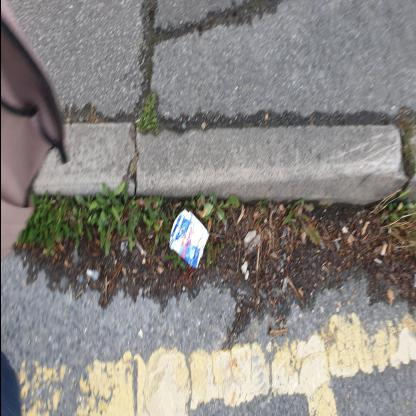metal: (168, 210, 208, 270)
